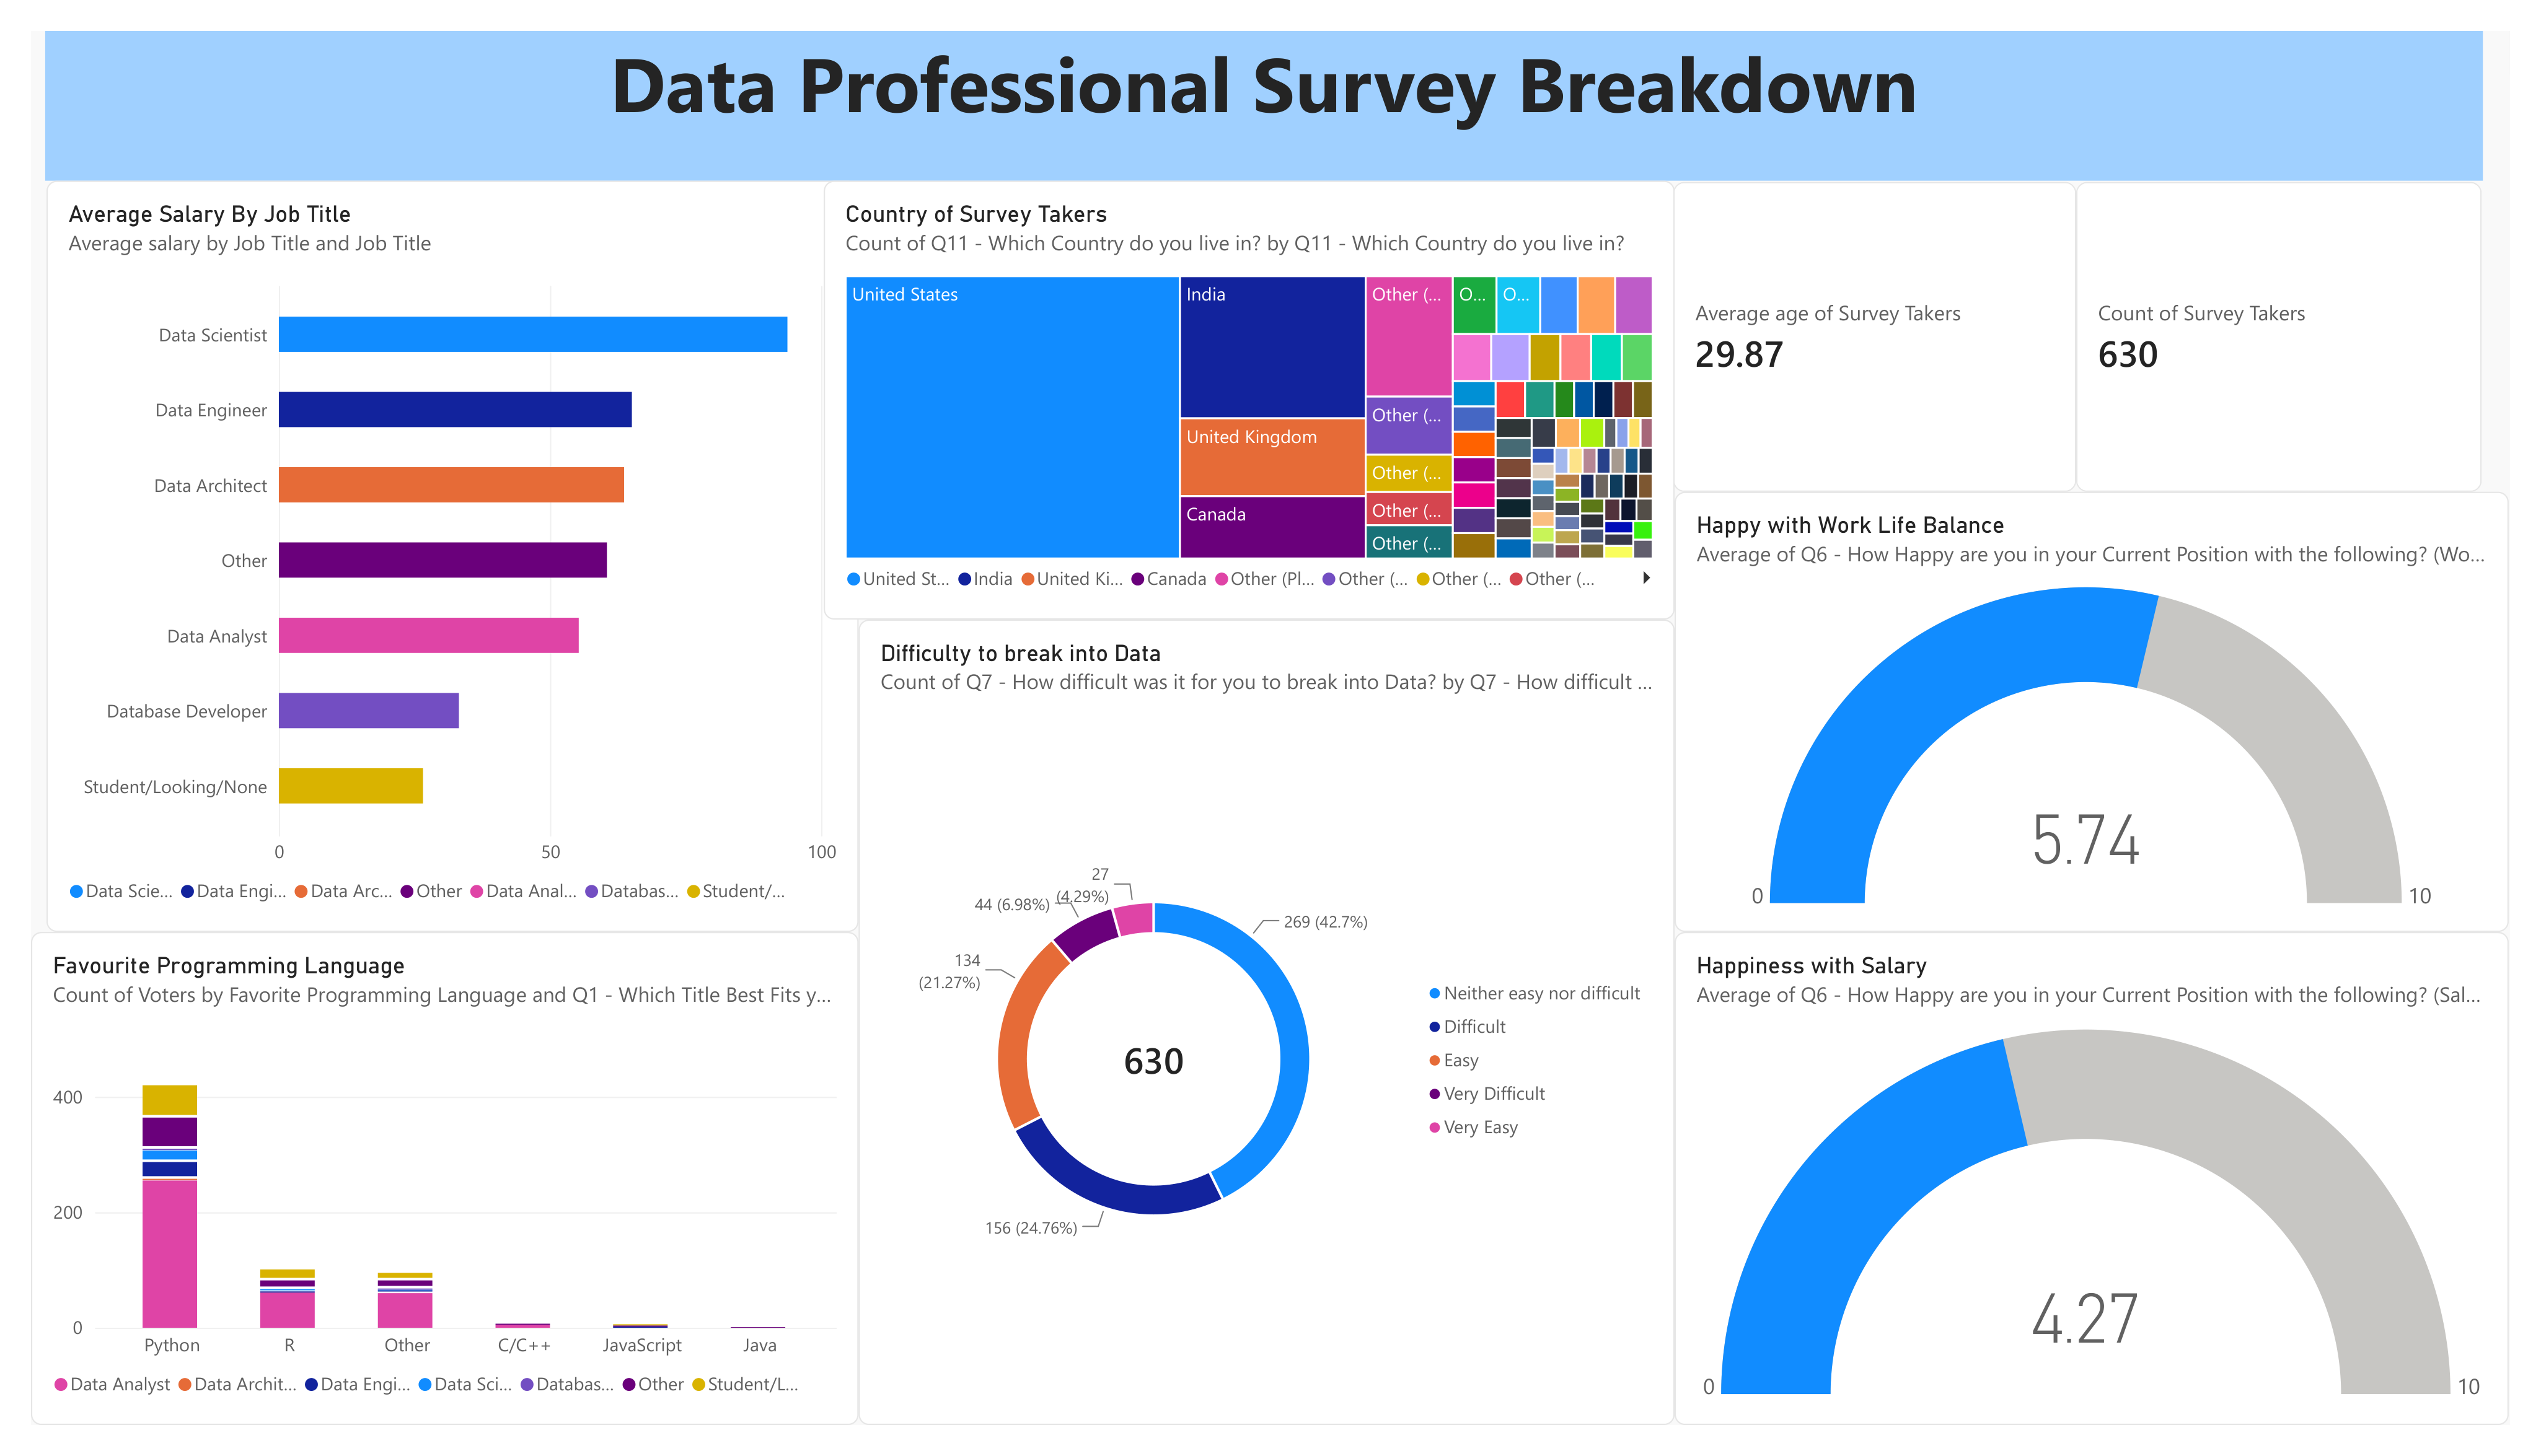

What the dashboard file says about the page in this screenshot:
{"tool":"powerbi","page":{"name":"Page 1","canvas":[1920,1080],"ordinal":0},"visuals":[{"type":"textbox","box":[11.3,0,1887.9,116.2],"z":0},{"type":"cardVisual","fields":{"Data":["Count(Data Professional Survey.Unique ID)"]},"box":[1584.2,116.9,314.9,241],"z":1},{"type":"cardVisual","fields":{"Data":["Avg(Data Professional Survey.Q10 - Current Age)"]},"box":[1271.7,116.9,312.6,241],"z":2},{"type":"barChart","title":"Average Salary By Job Title","fields":{"Category":["Data Professional Survey.Q1 - Which Title Best Fits your Current Role?.1"],"Series":["Data Professional Survey.Q1 - Which Title Best Fits your Current Role?.1"],"Y":["Avg(Data Professional Survey.Average salary)"]},"box":[12.4,116.4,629,581.9],"z":3},{"type":"columnChart","title":"Favourite Programming Language","fields":{"Category":["Data Professional Survey.Q5 - Favorite Programming Language.1"],"Series":["Data Professional Survey.Q1 - Which Title Best Fits your Current Role?.1"],"Y":["CountNonNull(Data Professional Survey.Unique ID)"]},"box":[0,698.3,641.4,381.4],"z":4},{"type":"treemap","title":"Country of Survey Takers","fields":{"Group":["Data Professional Survey.Q11 - Which Country do you live in?"],"Values":["CountNonNull(Data Professional Survey.Q11 - Which Country do you live in?)"]},"box":[614.1,116.4,658.7,339.3],"z":5},{"type":"gauge","title":"Happiness with Salary","fields":{"MaxValue":["Max(Data Professional Survey.Q6 - How Happy are you in your Current Position with the following? (Salary))"],"MinValue":["Min(Data Professional Survey.Q6 - How Happy are you in your Current Position with the following? (Salary))"],"Y":["Avg(Data Professional Survey.Q6 - How Happy are you in your Current Position with the following? (Salary))"]},"box":[1272.9,698.3,646.3,381.4],"z":6},{"type":"gauge","title":"Happy with Work Life Balance","fields":{"MaxValue":["Max(Data Professional Survey.Q6 - How Happy are you in your Current Position with the following? (Work/Life Balance))"],"MinValue":["Min(Data Professional Survey.Q6 - How Happy are you in your Current Position with the following? (Work/Life Balance))"],"TargetValue":["Sum(Data Professional Survey.Q6 - How Happy are you in your Current Position with the following? (Work/Life Balance))"],"Y":["Avg(Data Professional Survey.Q6 - How Happy are you in your Current Position with the following? (Work/Life Balance))"]},"box":[1272.9,356.6,646.3,341.7],"z":7},{"type":"donutChart","title":"Difficulty to break into Data","fields":{"Category":["Data Professional Survey.Q7 - How difficult was it for you to break into Data?"],"Y":["CountNonNull(Data Professional Survey.Q7 - How difficult was it for you to break into Data?)"]},"box":[641.4,455.7,631.5,624],"z":8}]}

Visuals, with their boxes on the page's 1920x1080 design canvas (x1, y1, x2, y2). These are canvas units, not pixel positions in the 2541x1456 screenshot, which may show the page scaled, cropped or inside an application window:
textbox: (x1=11, y1=0, x2=1899, y2=116)
cardVisual - Count(Data Professional Survey.Unique ID): (x1=1584, y1=117, x2=1899, y2=358)
cardVisual - Avg(Data Professional Survey.Q10 - Current Age): (x1=1272, y1=117, x2=1584, y2=358)
"Average Salary By Job Title" barChart: (x1=12, y1=116, x2=641, y2=698)
"Favourite Programming Language" columnChart: (x1=0, y1=698, x2=641, y2=1080)
"Country of Survey Takers" treemap: (x1=614, y1=116, x2=1273, y2=456)
"Happiness with Salary" gauge: (x1=1273, y1=698, x2=1919, y2=1080)
"Happy with Work Life Balance" gauge: (x1=1273, y1=357, x2=1919, y2=698)
"Difficulty to break into Data" donutChart: (x1=641, y1=456, x2=1273, y2=1080)
